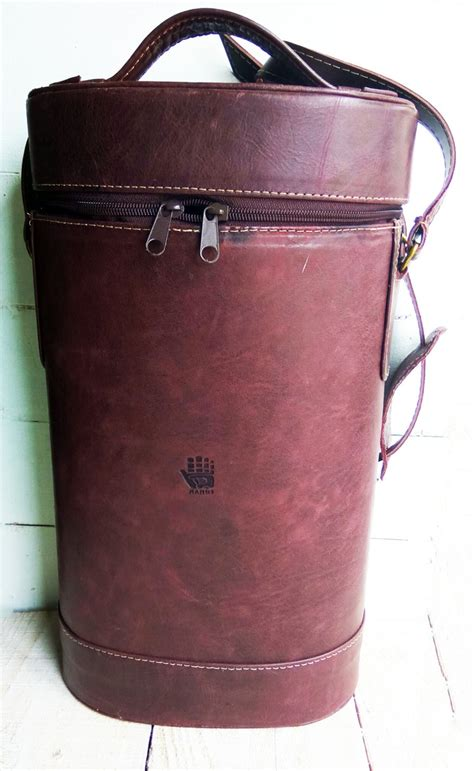cuero: (14, 7, 457, 730)
